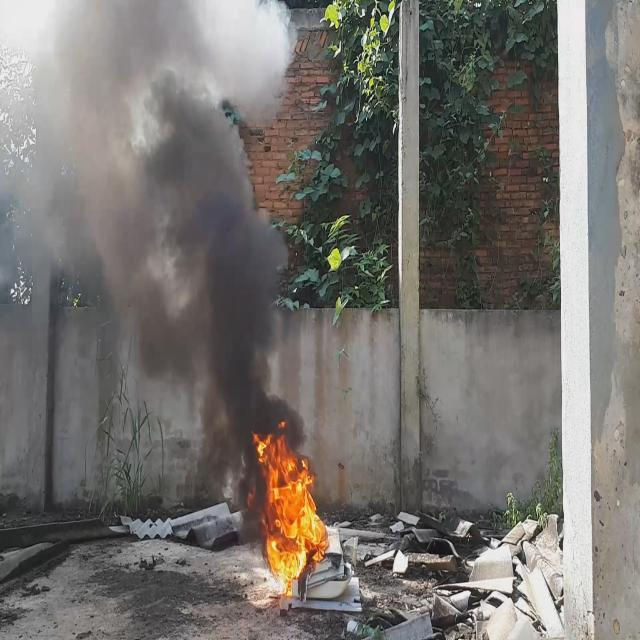Fire: (251, 418, 332, 592)
Smoke: (0, 0, 310, 543)
